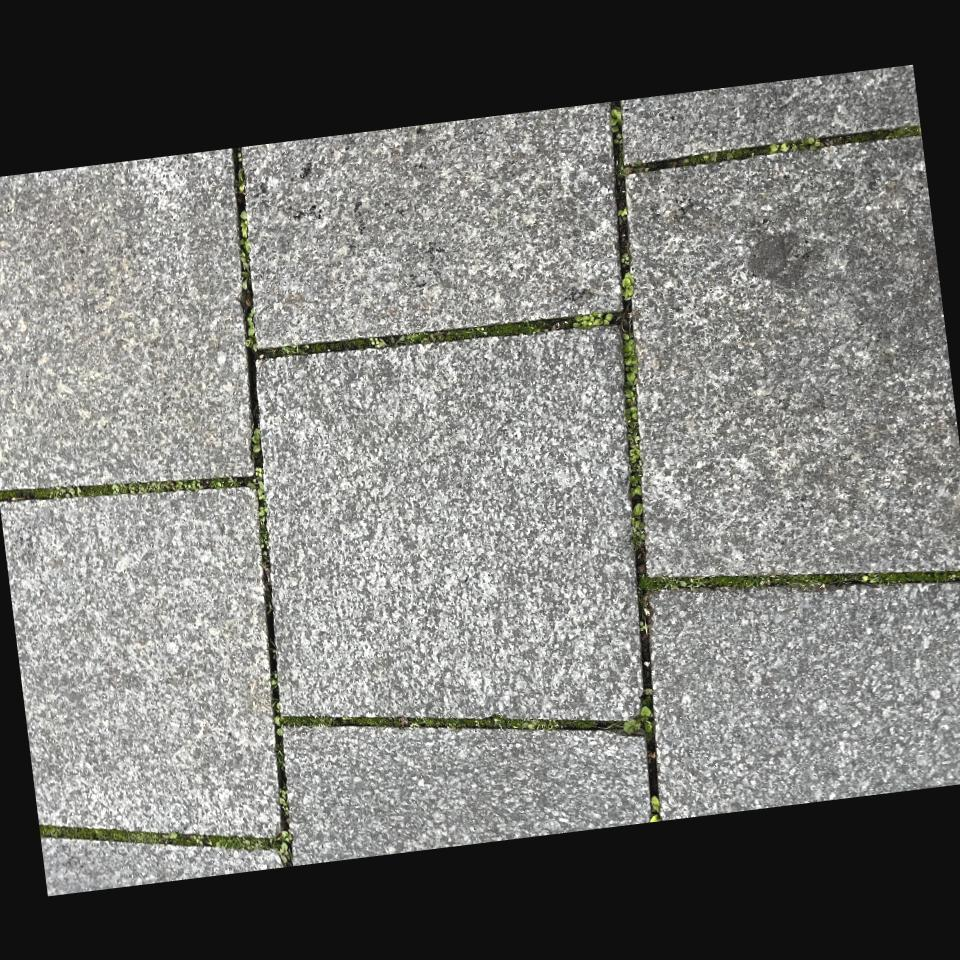weed: (61, 409, 436, 869), (190, 741, 756, 786), (498, 389, 546, 759), (66, 380, 500, 420), (0, 173, 31, 424), (353, 131, 381, 392), (502, 365, 708, 391), (16, 405, 50, 423)
